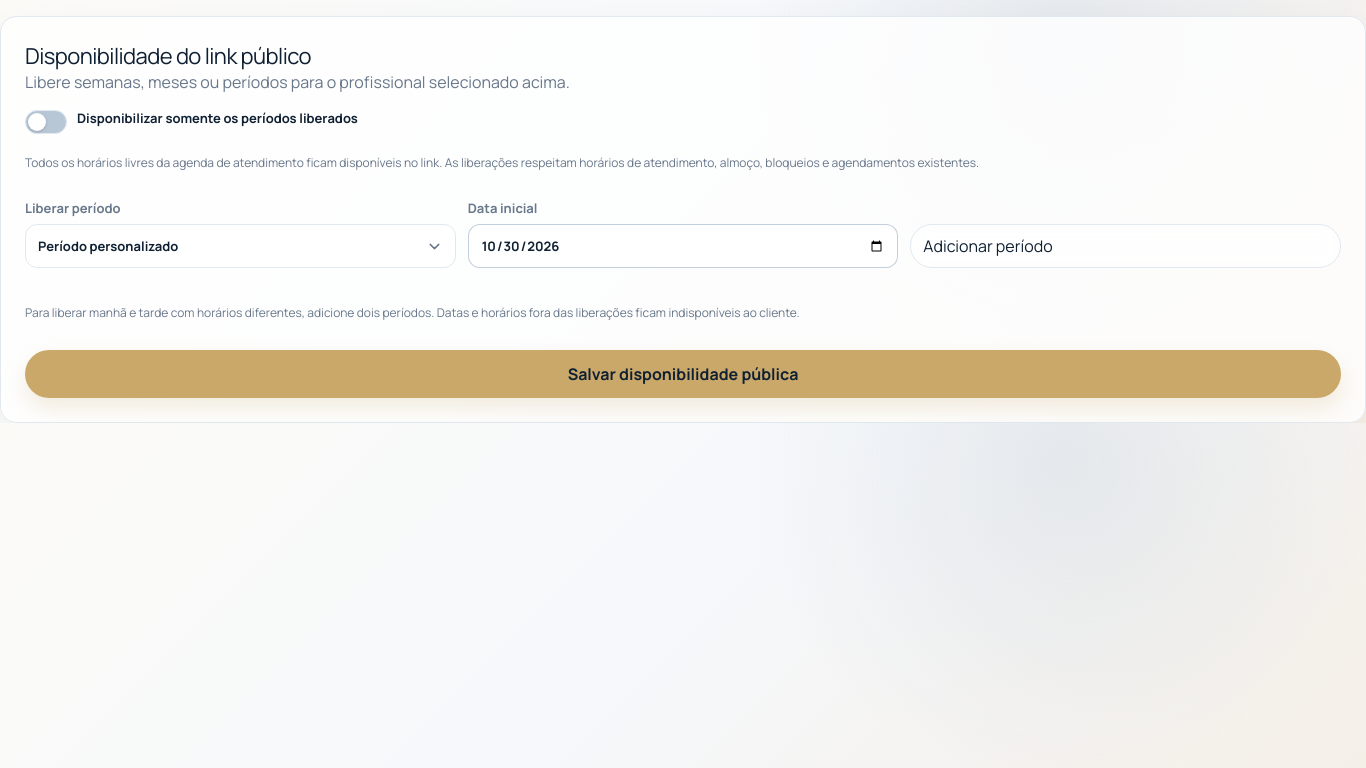
Test: Liberação de agenda pública › monta um mês inteiro, permite ajustar dias e horários e salva por profissional
Expected: the button "Adicionar período" is shown, [910, 224, 1341, 268]
Click the dropdown named "Liberar período".
click(108, 246)  # box [25, 224, 456, 268]
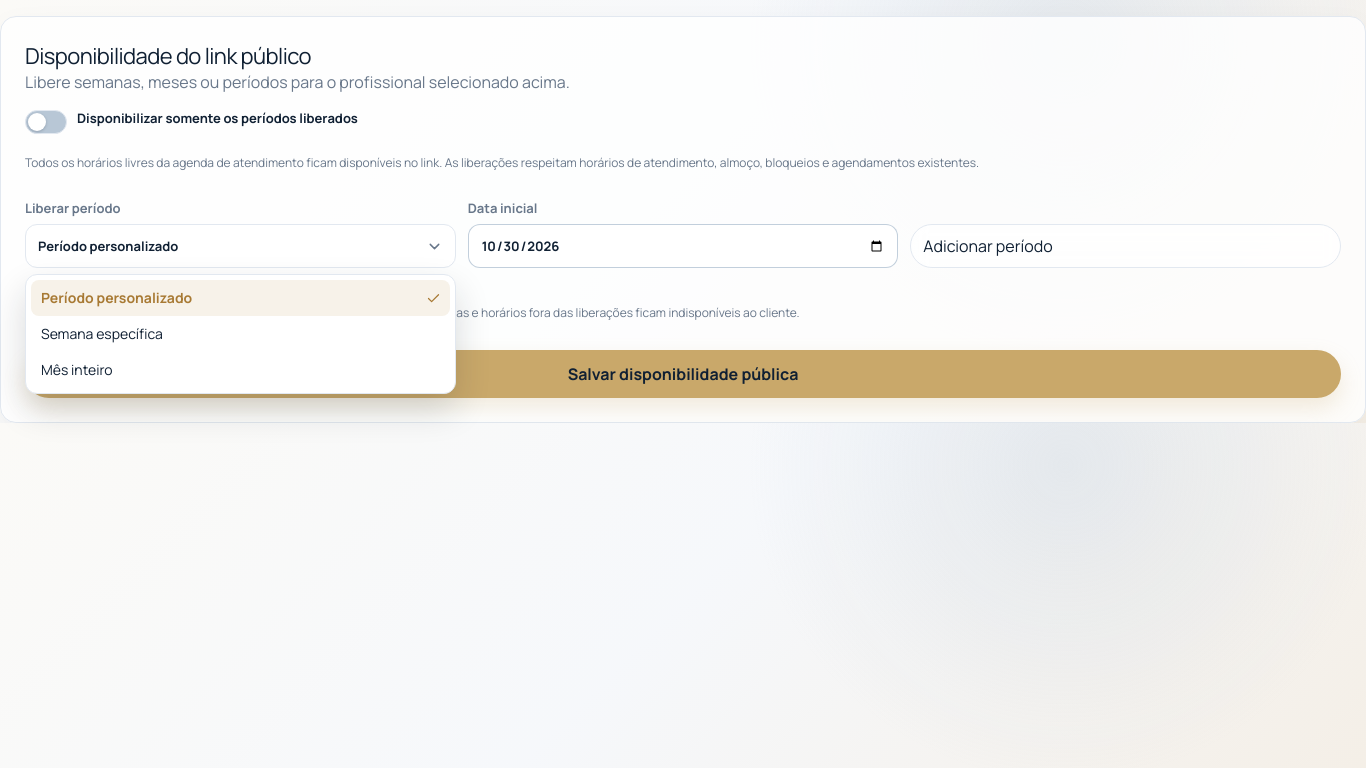
Click the option "Mês inteiro".
click(77, 370)  # box [41, 360, 113, 379]
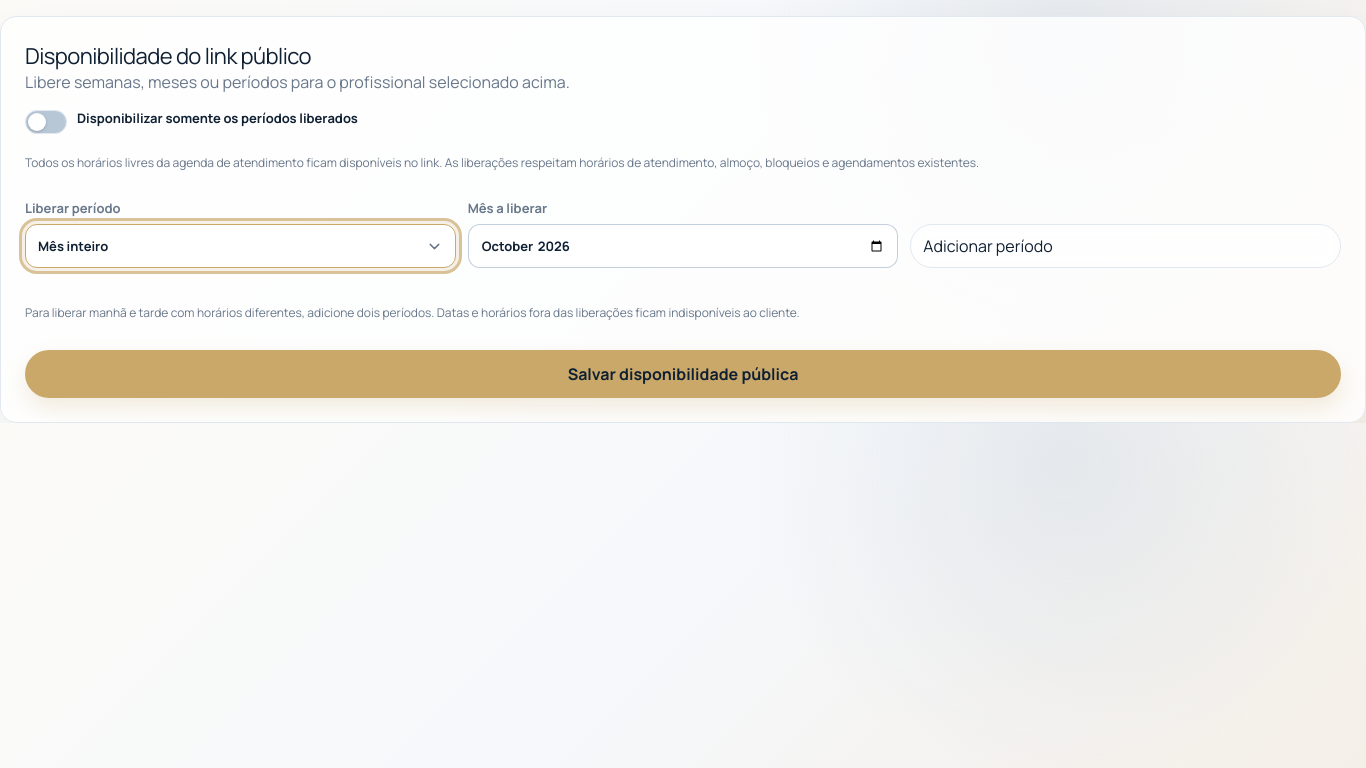
Replace the text in the field labelled "Mês a liberar" with "2030-02" at [683, 246], box [468, 224, 898, 268]
Click the button "Adicionar período".
click(988, 246)  # box [910, 224, 1341, 268]
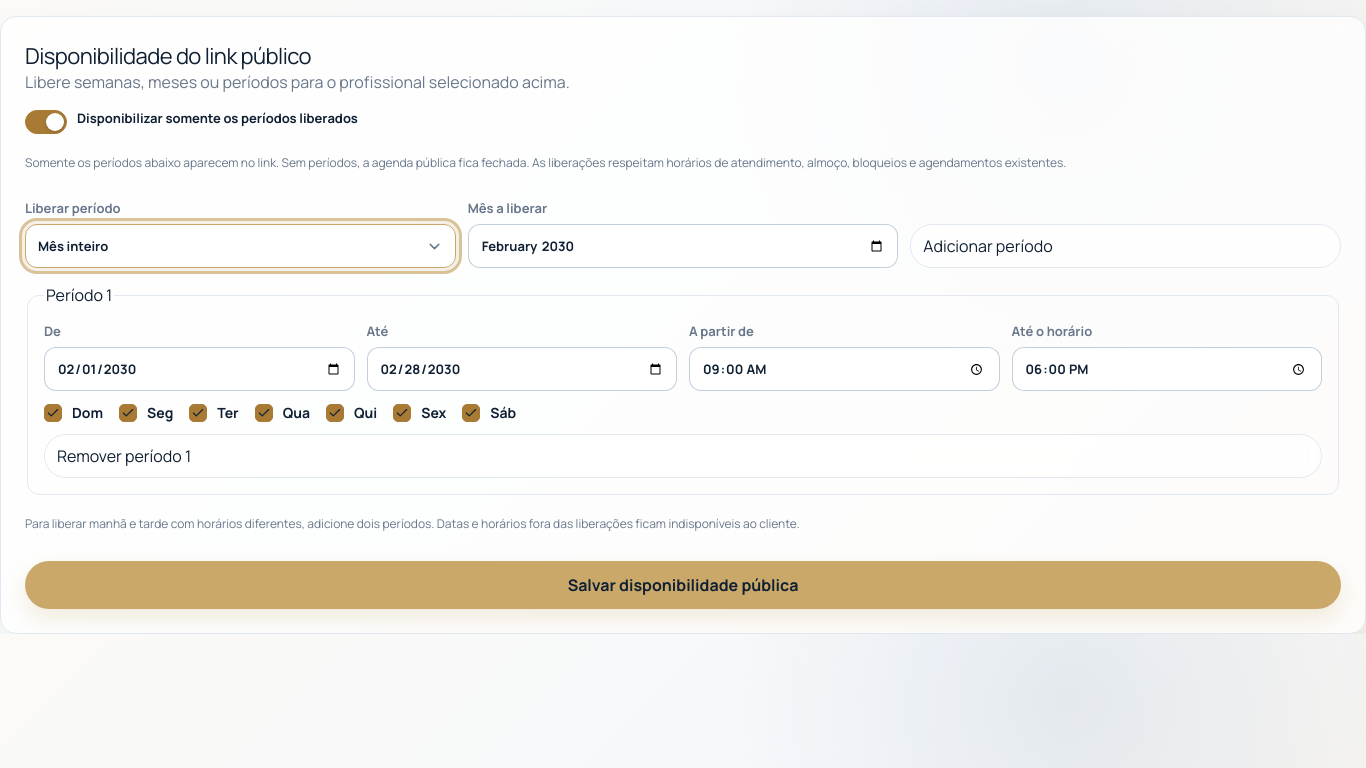
Result: the date field labelled "De" holds "2030-02-01" at [44, 347, 354, 391]
Result: the date field labelled "Até" holds "2030-02-28" at [366, 347, 677, 391]
Replace the text in the time field labelled "A partir de" with "14:00" at [844, 369], box [689, 347, 1000, 391]
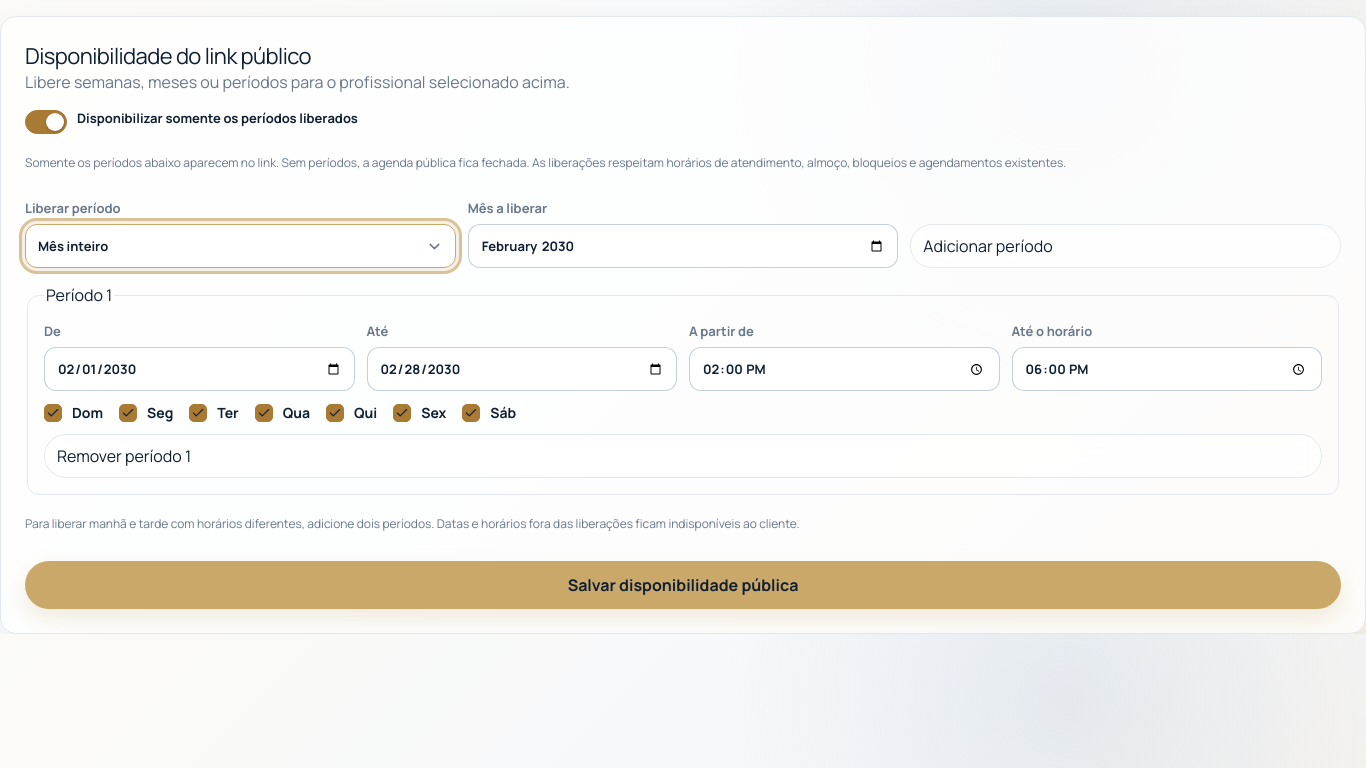
Click the checkbox named "Dom" next to "Dom".
click(53, 413)  # box [44, 404, 62, 422]
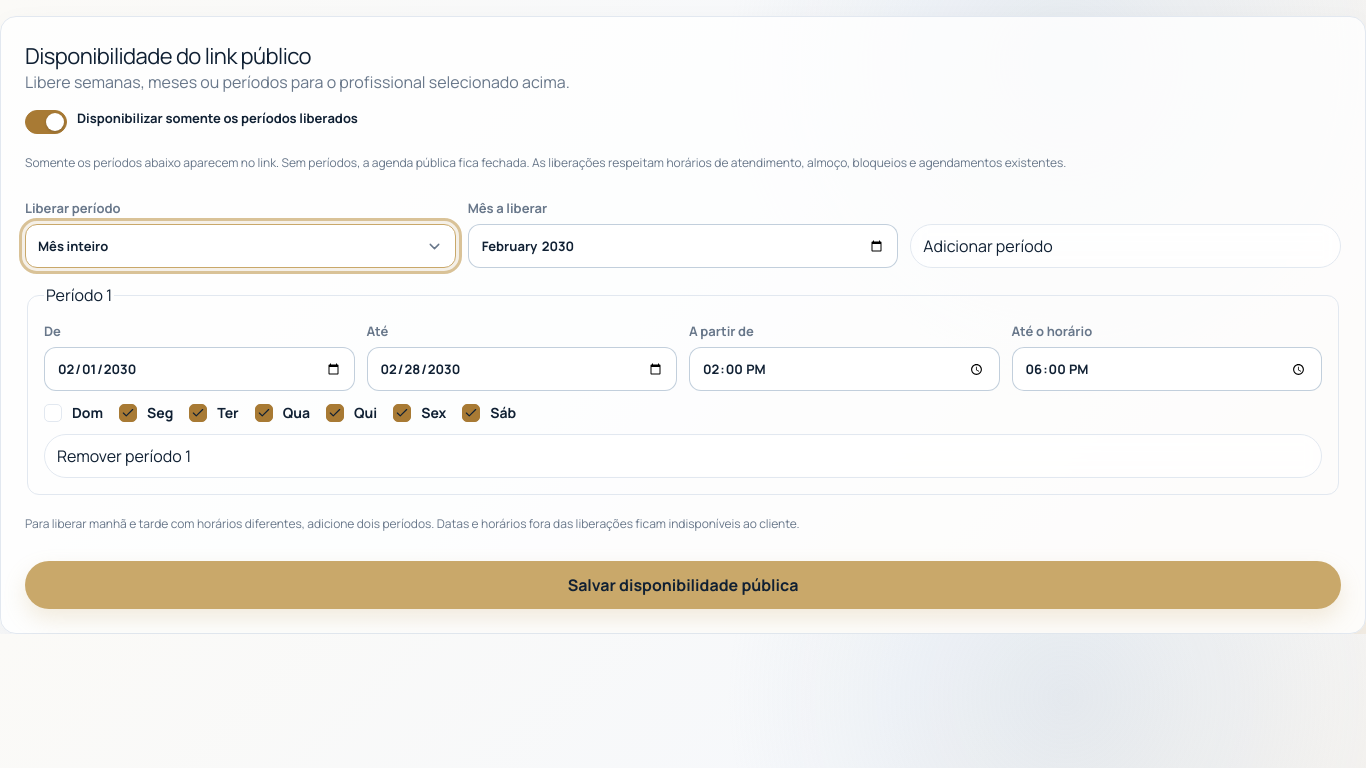
Click the button "Salvar disponibilidade pública".
click(683, 585)  # box [25, 561, 1341, 609]
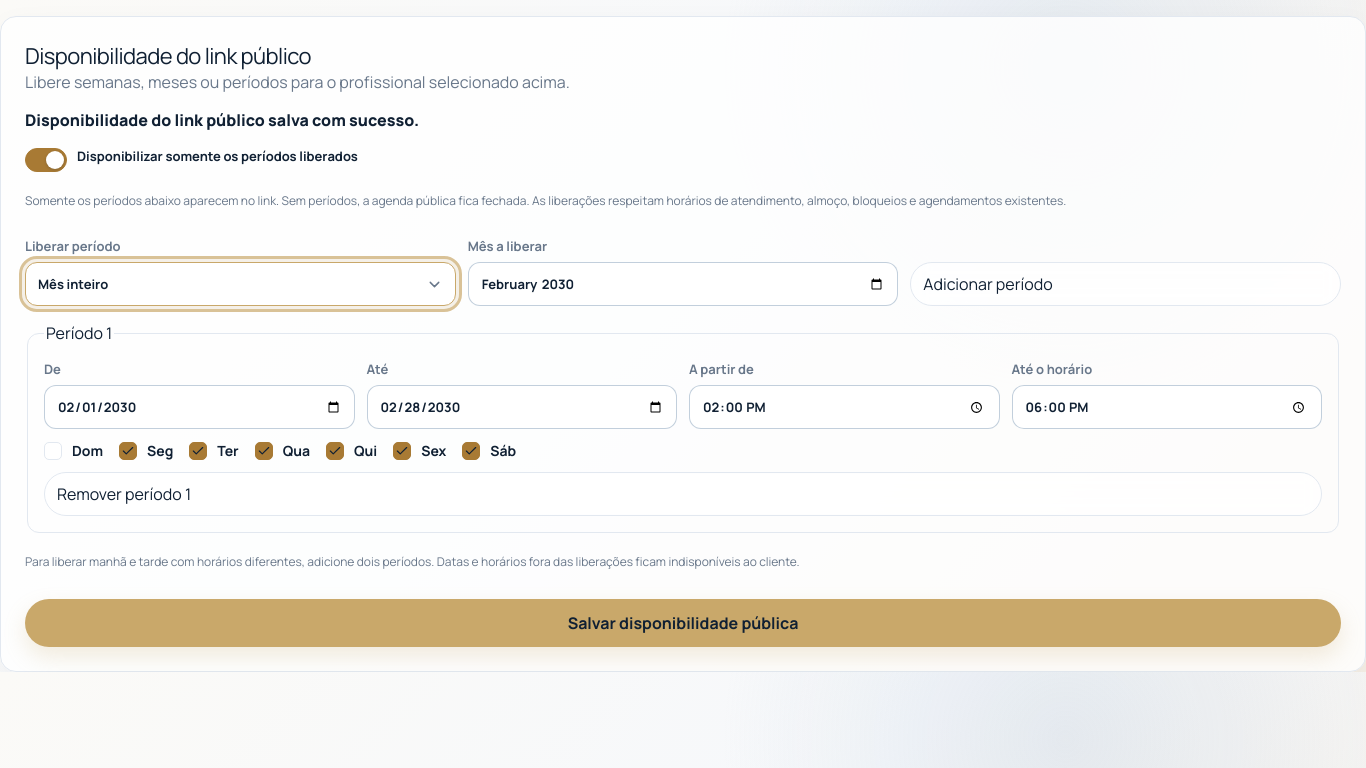
Result: the text "Disponibilidade do link público salva com sucesso." is shown at [25, 109, 419, 131]
